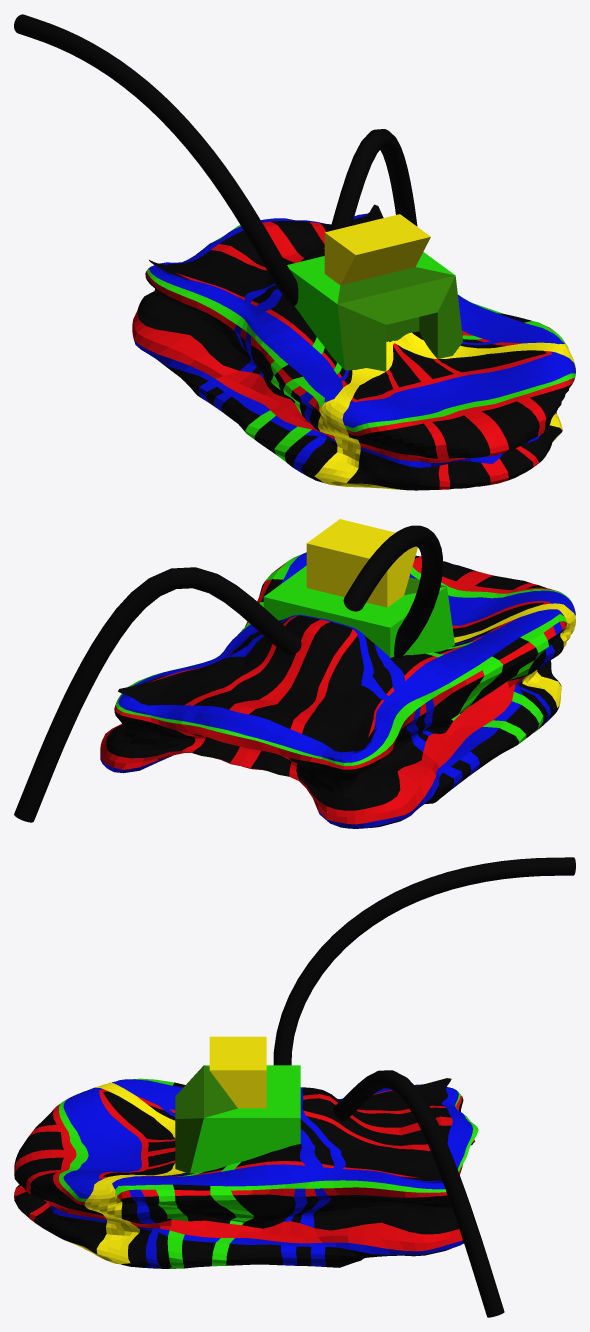
File: something.fbx
The picture shows the model from 3 angles, top to bottom: view 1: azimuth 30°, elevation 25°; view 2: azimuth 150°, elevation 25°; view 3: azimuth 270°, elevation 25°; orthographic projection. The views are drawn at different scales.
Parts seen in each view (by area): view 1: Cube; view 2: Cube; view 3: Cube.
Part boxes in pixels (box(x1,y1,x2,y2)): Cube: box(14, 14, 575, 490); Cube: box(14, 519, 575, 828); Cube: box(14, 857, 575, 1317).
Size of the model in its own units: 51.47 by 44.7 by 74.43.
